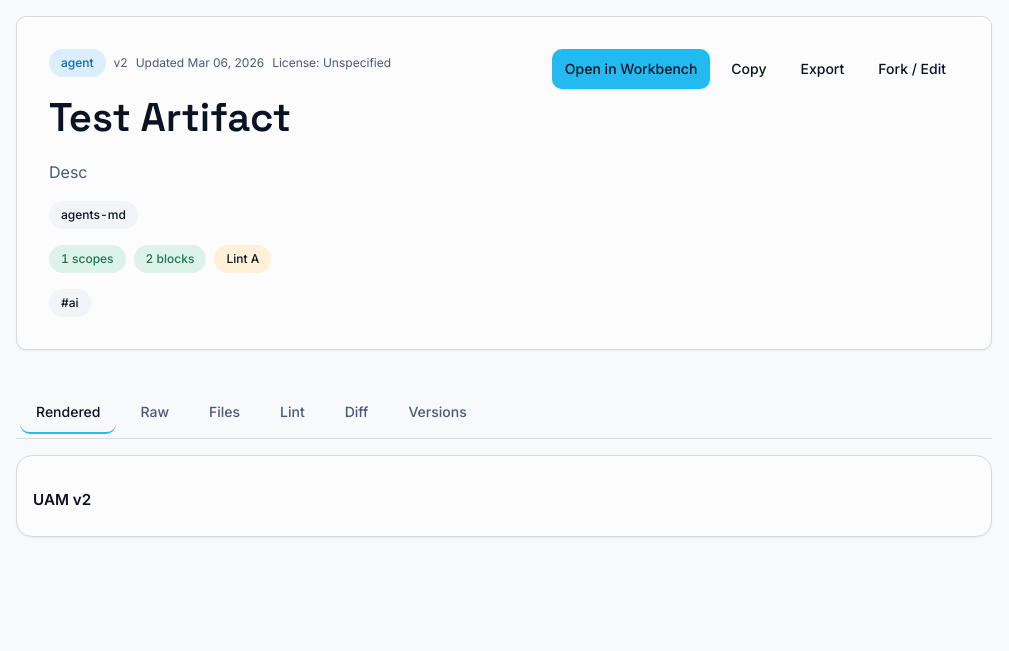
Test case: ArtifactPage › switches versions and updates content
The width and height of the screenshot is (1009, 651).
Click the tab "Versions" at point(438, 412), box x1=392 y1=390 x2=483 y2=434
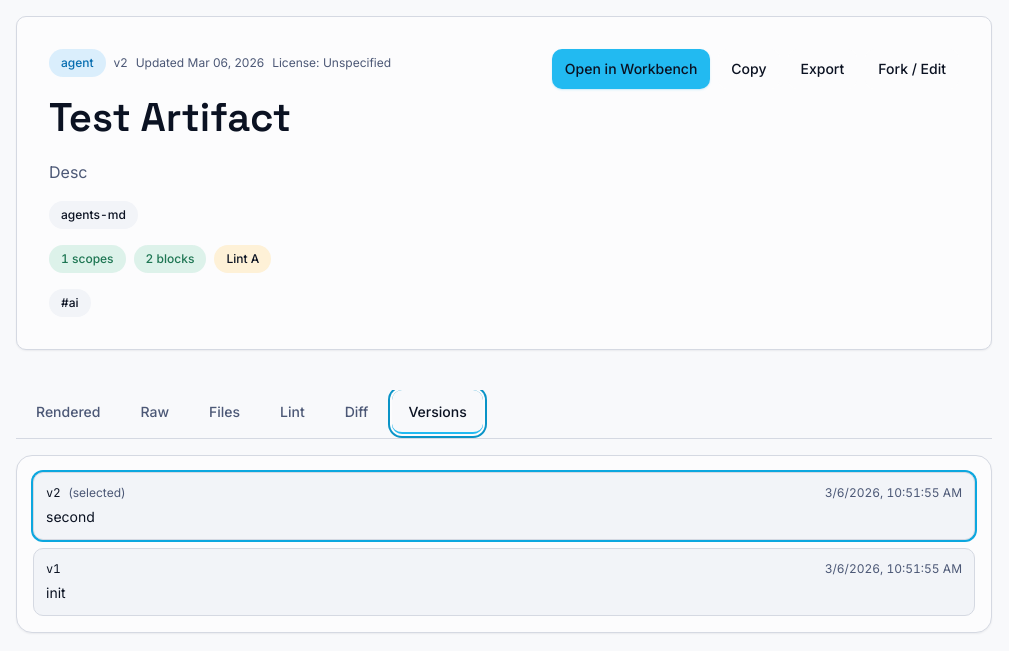
Expected: the button with aria-label "Select version 1" is shown
Click the button with aria-label "Select version 1" at point(893, 568), box x1=33 y1=548 x2=975 y2=616
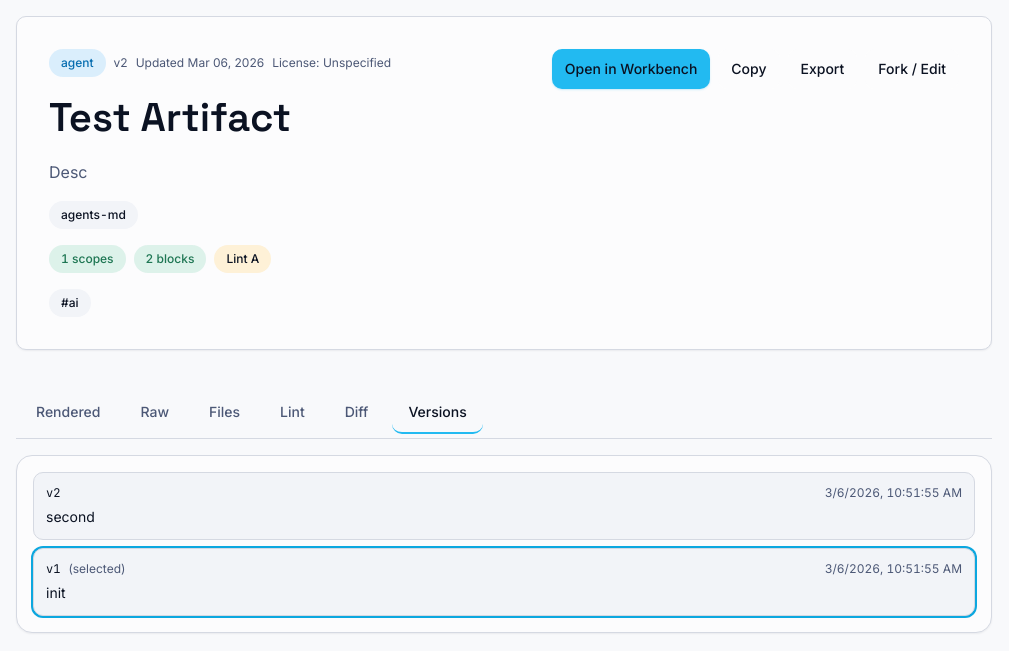
Click the tab "Raw" at point(155, 412), box x1=124 y1=390 x2=185 y2=434
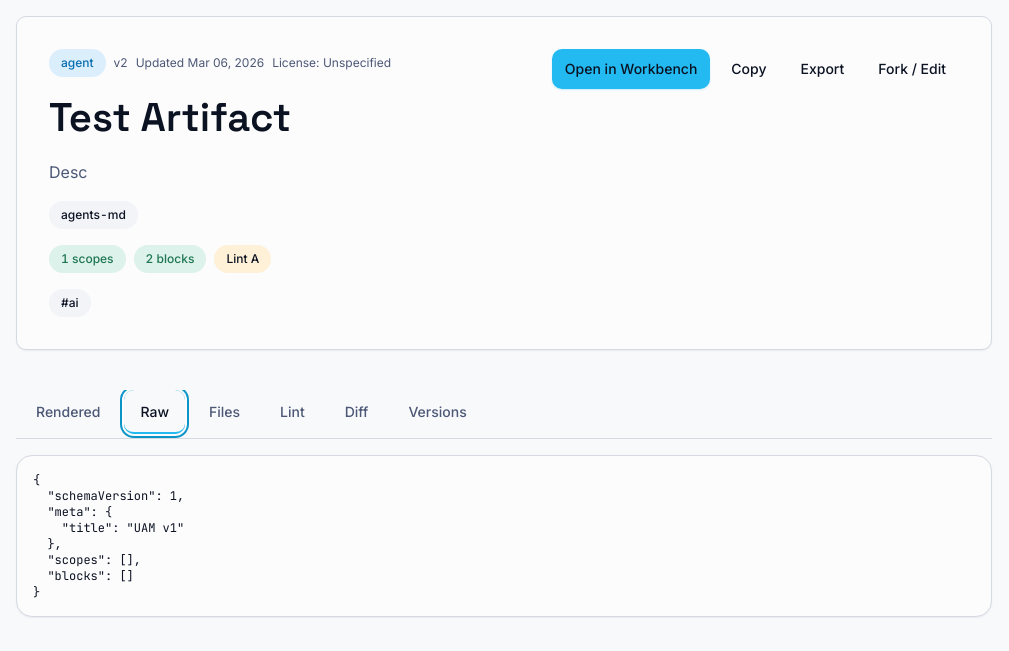
Expected: the text "UAM v1" is shown, x1=33 y1=472 x2=184 y2=600
